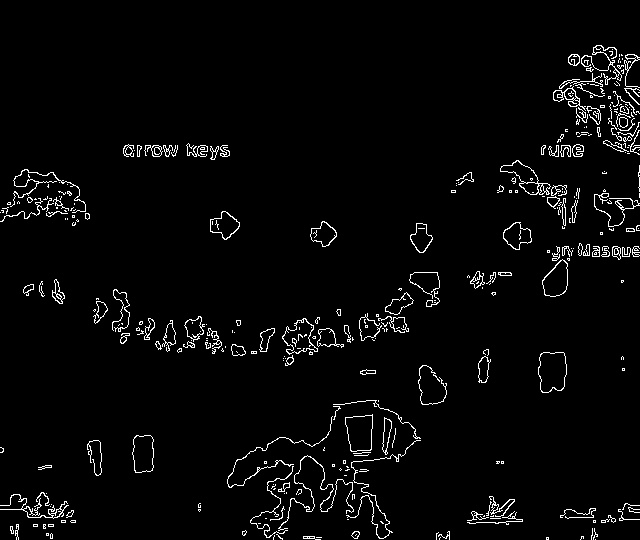rune_box: (157, 185, 575, 285)
